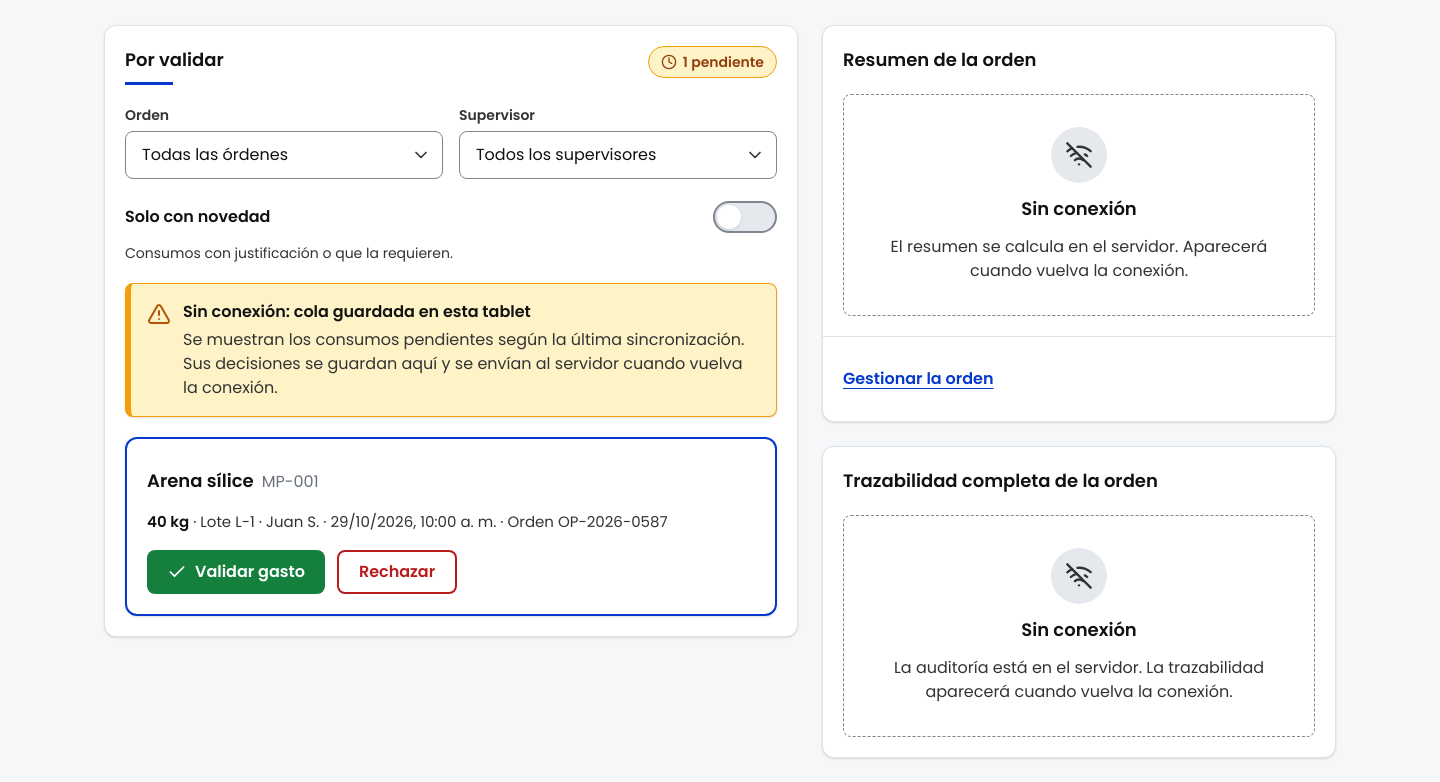
it: sin conexión (S5) › muestra la cola guardada en la tablet y encola la validación en el outbox
(page scrolled)
Check: the text "Sin conexión: cola guardada en esta tablet" is shown, box [182,299,531,323]
Check: the element "Arena sílice" shows "40 kg", box [125,437,777,616]
Click the button with aria-label "Validar gasto de Arena sílice".
click(236, 572)  # box [147,550,325,594]
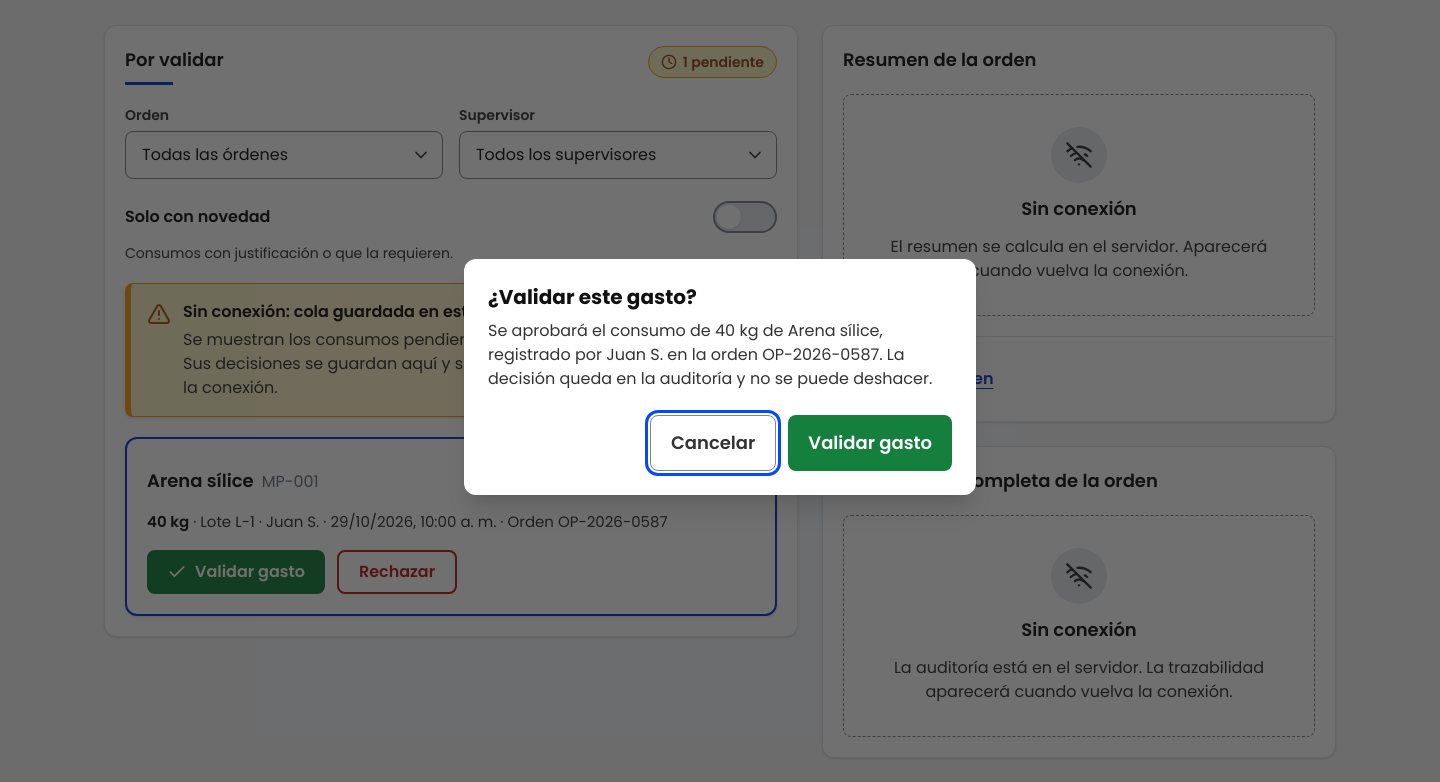
Click the button "Validar gasto".
click(870, 443)  # box [788,415,952,471]
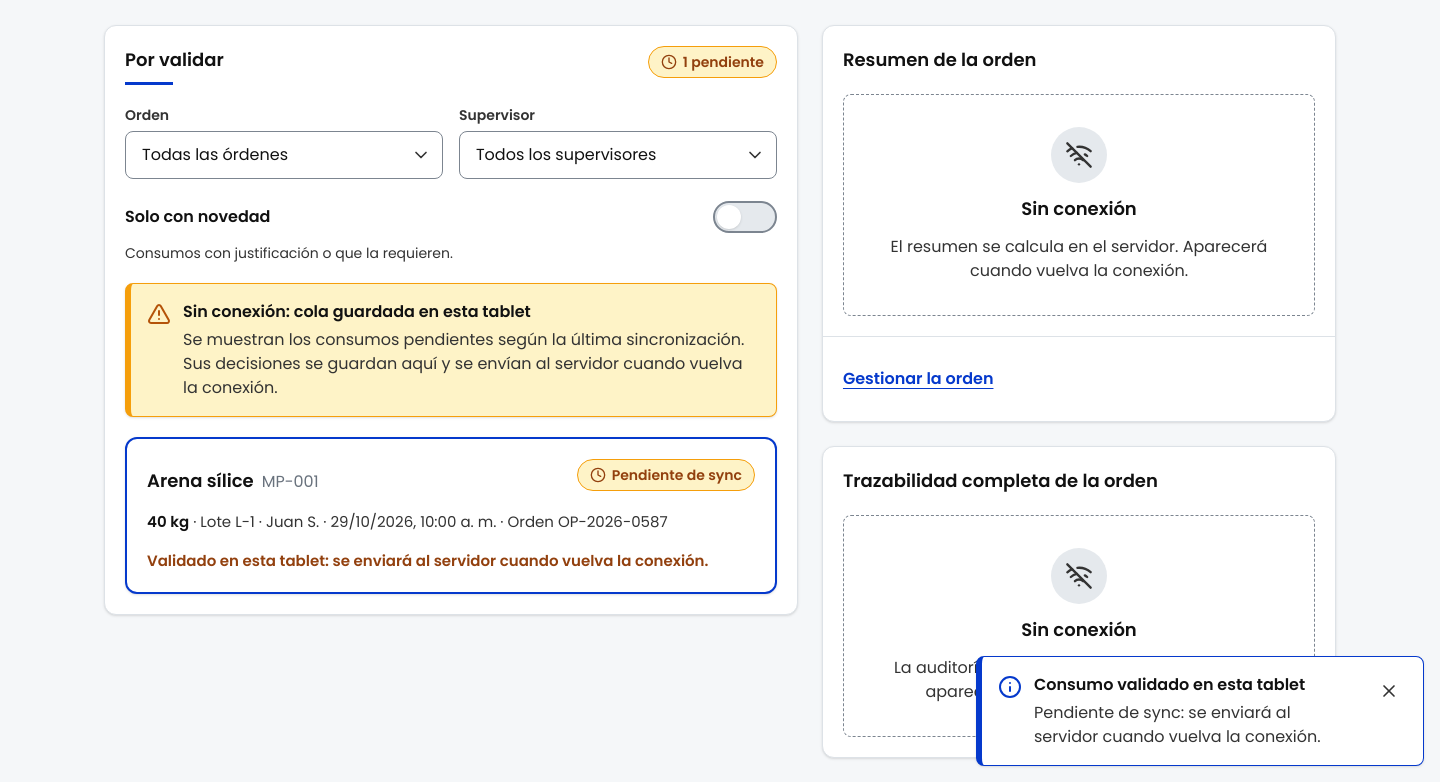
Check: the text "Consumo validado en esta tablet" is shown, box [1033,672,1305,696]
Check: the text "Pendiente de sync" is shown, box [612,465,742,485]
Check: the button "Validar gasto" is gone
